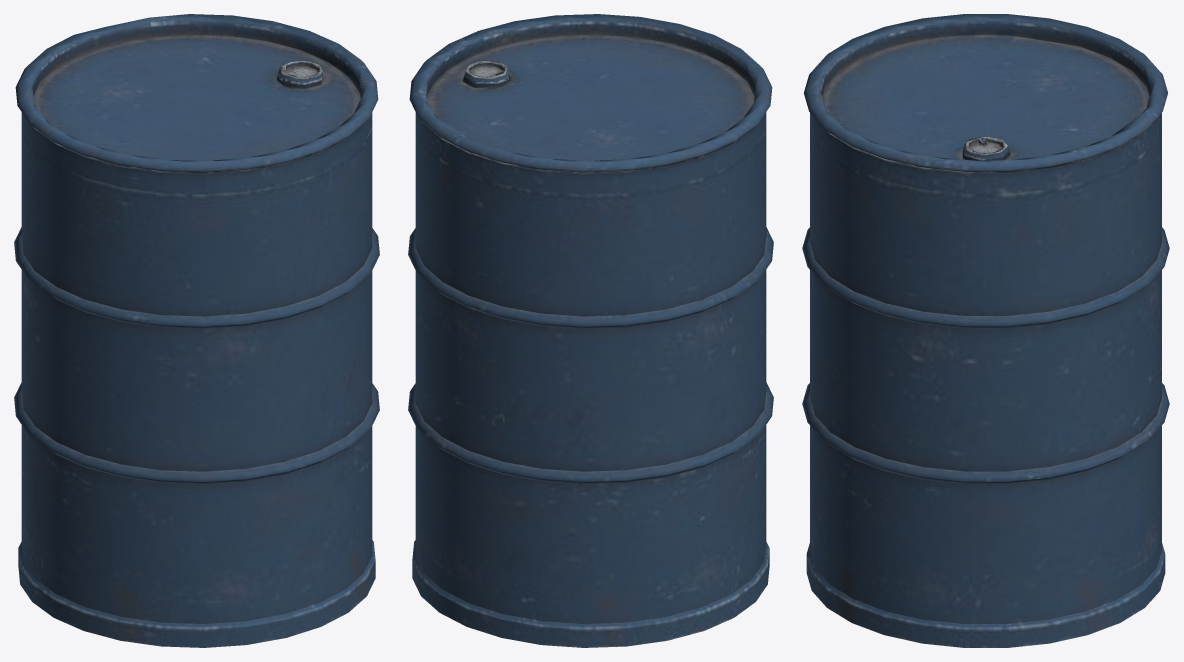
The model's file is barrel_b-DZ1AlLh_.glb.
3 renders of one model, left to right at view 1: azimuth 30°, elevation 25°; view 2: azimuth 150°, elevation 25°; view 3: azimuth 270°, elevation 25°, orthographic.
Visible parts, largest first — view 1: barrel_03; view 2: barrel_03; view 3: barrel_03.
Boxes of the visible parts, x1,y1,x2,y2 form: barrel_03: (14,14,379,647); barrel_03: (408,14,773,647); barrel_03: (802,14,1169,647).
Bounding box in the file's own units: 0.6339 × 0.9305 × 0.6386.
1 material, 1 textured.
